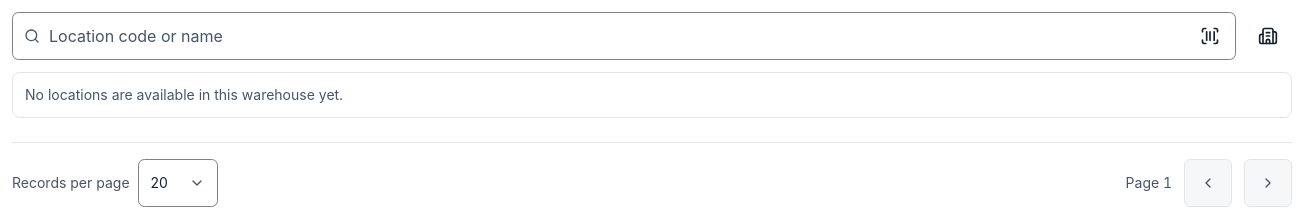
Test: does not offer registration when typed exact lookup returns LOCATION_UNAVAILABLE
Type "LABEL" into the field named "Search location" at (624, 36), box [12, 12, 1236, 60]
Wait 250 ms
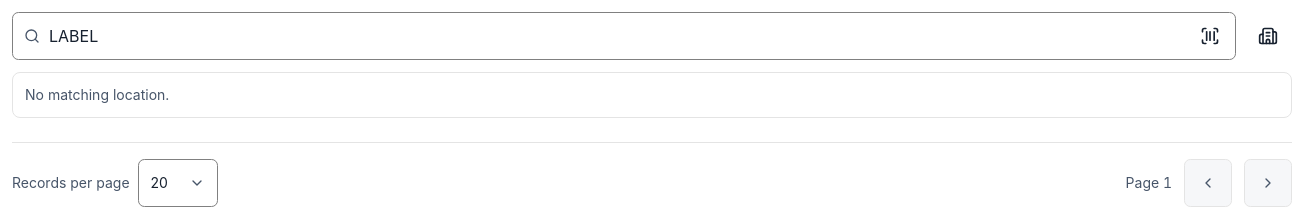
Expected: the list item "No matching location." is shown, [25, 86, 169, 103]
